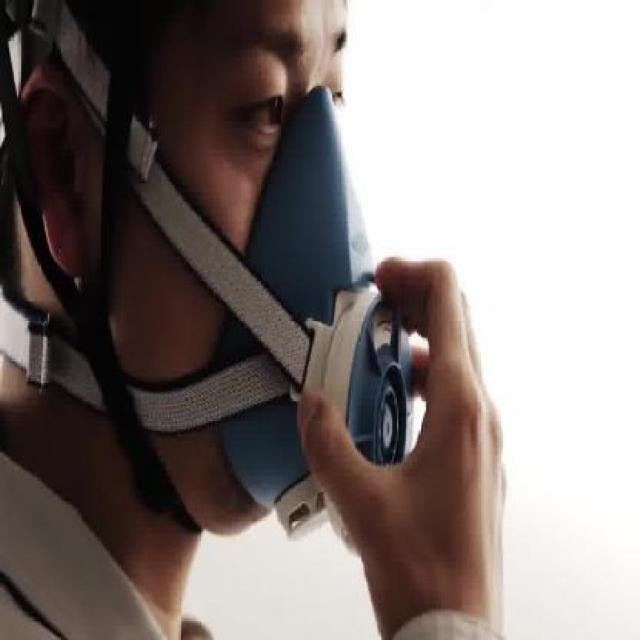Mask: (202, 67, 420, 553)
